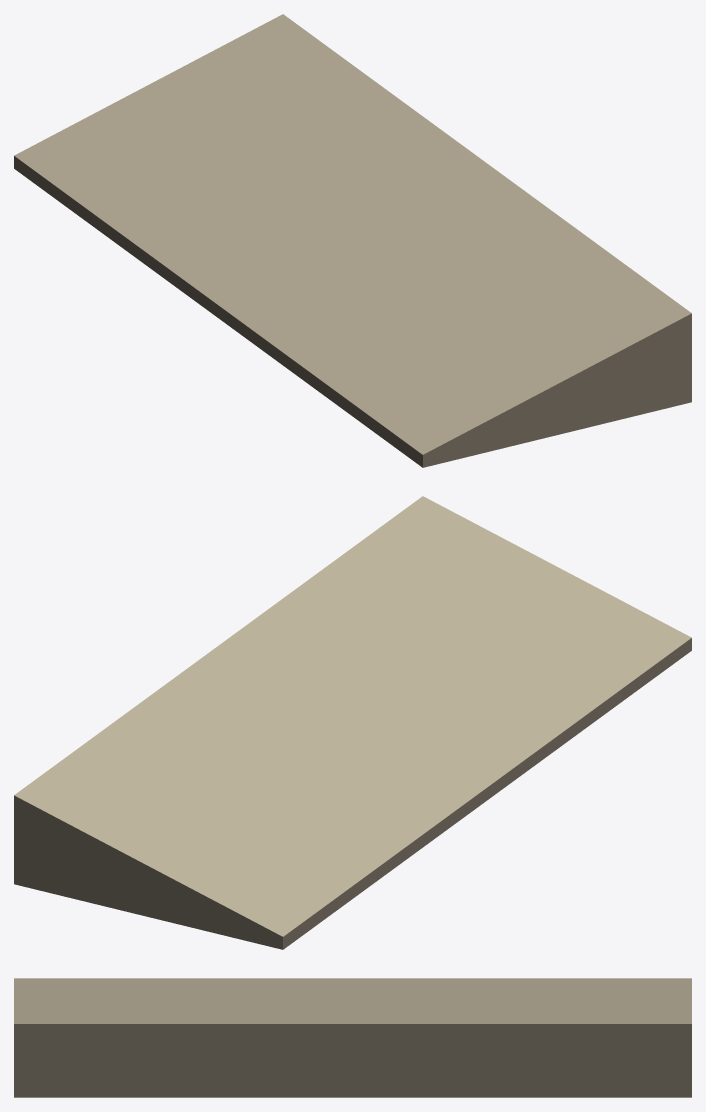
File: edge_river_bank_soft_2m.glb
3 views of the same model, one above another, from view 1: azimuth 30°, elevation 25°; view 2: azimuth 150°, elevation 25°; view 3: azimuth 270°, elevation 25° (orthographic). The views are drawn at different scales.
Visible parts, largest first — view 1: edge_river_bank_soft_2m; view 2: edge_river_bank_soft_2m; view 3: edge_river_bank_soft_2m.
Boxes of the visible parts, <box> form: edge_river_bank_soft_2m: <box>14,14,691,467</box>; edge_river_bank_soft_2m: <box>14,496,691,949</box>; edge_river_bank_soft_2m: <box>14,978,691,1097</box>.
Bounding box in the file's own units: 0.76 × 0.24 × 2.
